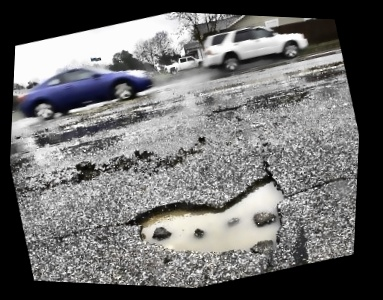pothole: (122, 164, 300, 284), (35, 104, 149, 153), (306, 56, 345, 75)
